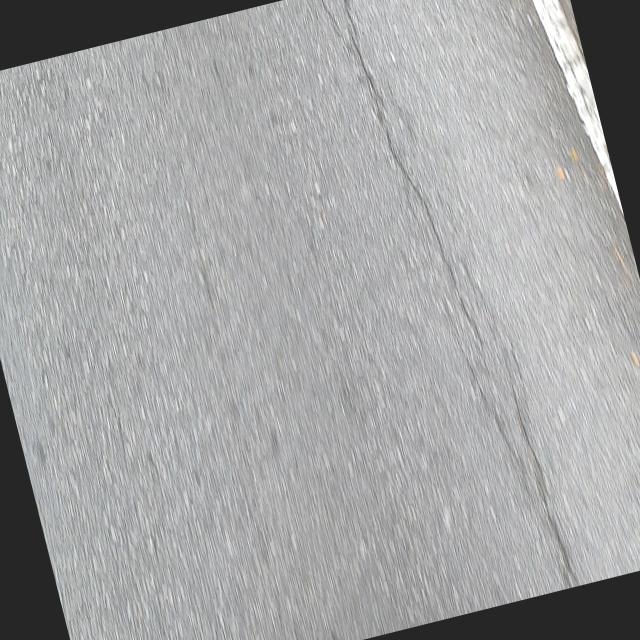Retak-Memanjang: (337, 0, 487, 344), (495, 354, 582, 576)
